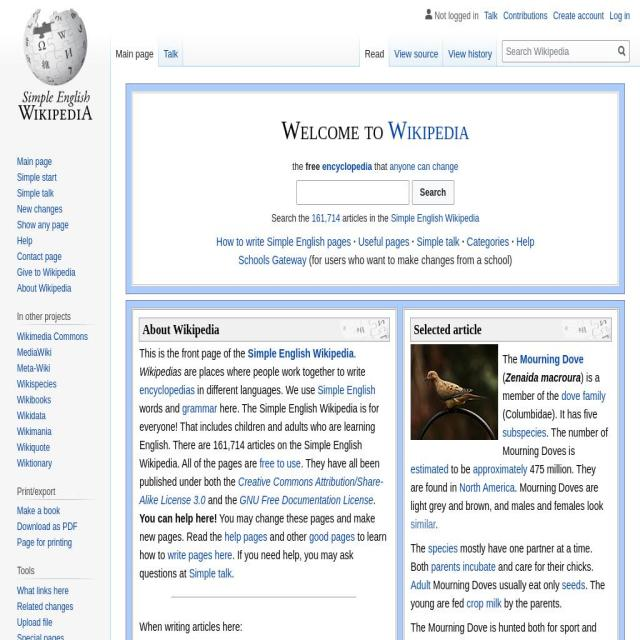button: (388, 33, 444, 67), (443, 33, 498, 67), (110, 33, 158, 67), (360, 33, 390, 67), (158, 33, 183, 67)
field: (296, 179, 410, 205), (502, 40, 630, 63), (412, 179, 454, 205), (614, 41, 630, 62), (614, 41, 630, 62)
heading: (0, 10, 113, 640), (281, 114, 389, 145), (388, 114, 470, 145), (143, 321, 220, 337), (414, 321, 482, 337), (17, 310, 99, 322), (17, 485, 99, 497), (17, 565, 99, 577)
image: (0, 0, 640, 67), (5, 0, 105, 133), (411, 344, 498, 440), (326, 320, 389, 339), (548, 320, 611, 339)
link: (139, 475, 383, 507), (216, 235, 352, 249), (239, 493, 374, 507), (248, 347, 354, 360), (391, 213, 480, 225), (238, 254, 307, 268), (168, 548, 233, 562), (520, 352, 584, 366), (17, 330, 89, 342), (389, 160, 459, 172), (318, 383, 377, 397), (139, 383, 195, 397), (472, 462, 528, 476), (17, 521, 78, 533), (358, 235, 410, 249), (459, 481, 515, 494), (17, 266, 76, 278), (17, 601, 74, 613), (17, 218, 69, 231), (17, 282, 72, 294), (17, 537, 72, 549), (552, 10, 604, 22), (17, 585, 69, 597), (416, 235, 459, 249), (466, 235, 509, 249), (322, 160, 372, 172), (309, 530, 355, 543), (224, 530, 268, 543), (188, 567, 232, 580), (502, 426, 546, 439), (17, 203, 63, 215), (260, 457, 302, 470), (503, 10, 548, 22), (17, 250, 62, 262), (17, 505, 61, 517), (411, 462, 448, 476), (17, 171, 57, 183), (17, 378, 57, 390), (182, 402, 218, 415), (466, 597, 502, 610), (462, 560, 497, 573), (17, 393, 52, 406), (17, 187, 54, 199), (17, 617, 53, 629), (17, 155, 52, 167), (17, 346, 52, 358), (17, 425, 52, 437), (17, 457, 52, 469), (17, 362, 51, 374), (17, 441, 51, 453), (428, 542, 458, 555), (17, 632, 65, 640), (431, 560, 460, 573), (17, 409, 46, 422), (410, 517, 436, 531), (311, 213, 340, 225), (582, 389, 606, 403), (562, 578, 586, 592), (561, 389, 581, 403), (410, 578, 430, 592), (516, 235, 535, 249), (610, 10, 630, 22), (17, 234, 33, 247), (410, 639, 602, 640), (483, 10, 498, 22)
text: (139, 402, 379, 470), (140, 530, 386, 562), (139, 457, 380, 488), (139, 512, 375, 543), (139, 548, 353, 580), (411, 578, 605, 610), (411, 481, 603, 512), (410, 463, 596, 494), (411, 542, 593, 573), (140, 616, 388, 636), (411, 621, 596, 640), (503, 426, 608, 457), (502, 371, 600, 402), (306, 254, 513, 268), (181, 365, 366, 378), (430, 578, 562, 592), (195, 383, 318, 397), (140, 347, 248, 360), (502, 407, 598, 421), (496, 560, 594, 573), (139, 512, 217, 525), (505, 371, 581, 384), (424, 5, 479, 22), (501, 597, 562, 610), (340, 213, 391, 225), (139, 365, 182, 378), (139, 402, 182, 415), (267, 530, 309, 543), (272, 213, 312, 225), (205, 493, 239, 507), (448, 462, 473, 476), (502, 352, 520, 366), (411, 542, 428, 555), (372, 160, 390, 172), (305, 160, 322, 172), (292, 160, 306, 172), (502, 371, 506, 384), (353, 235, 356, 249), (373, 493, 376, 507), (435, 517, 438, 531), (354, 347, 357, 360), (412, 235, 414, 249), (462, 235, 464, 249), (512, 235, 514, 249), (232, 567, 234, 580)
